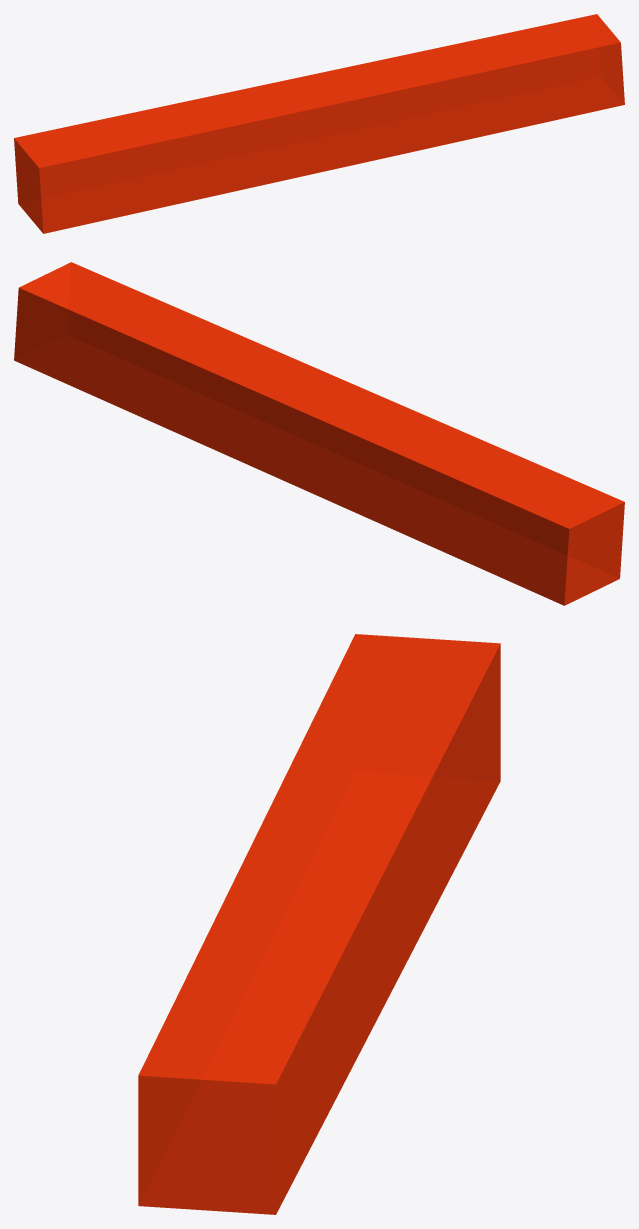
Rendered from Event_421115418_EErechit_44.fbx.
3 renders of one model, top to bottom at view 1: azimuth 30°, elevation 25°; view 2: azimuth 150°, elevation 25°; view 3: azimuth 270°, elevation 25°, orthographic. The views are drawn at different scales.
Parts seen in each view (by area): view 1: Model; view 2: Model; view 3: Model.
Part boxes in pixels (x1,y1,x2,y2): Model: (14, 14, 624, 233); Model: (14, 262, 624, 605); Model: (138, 634, 500, 1214).
Bounding box in the file's own units: 0.6492 × 0.1192 × 0.188.
